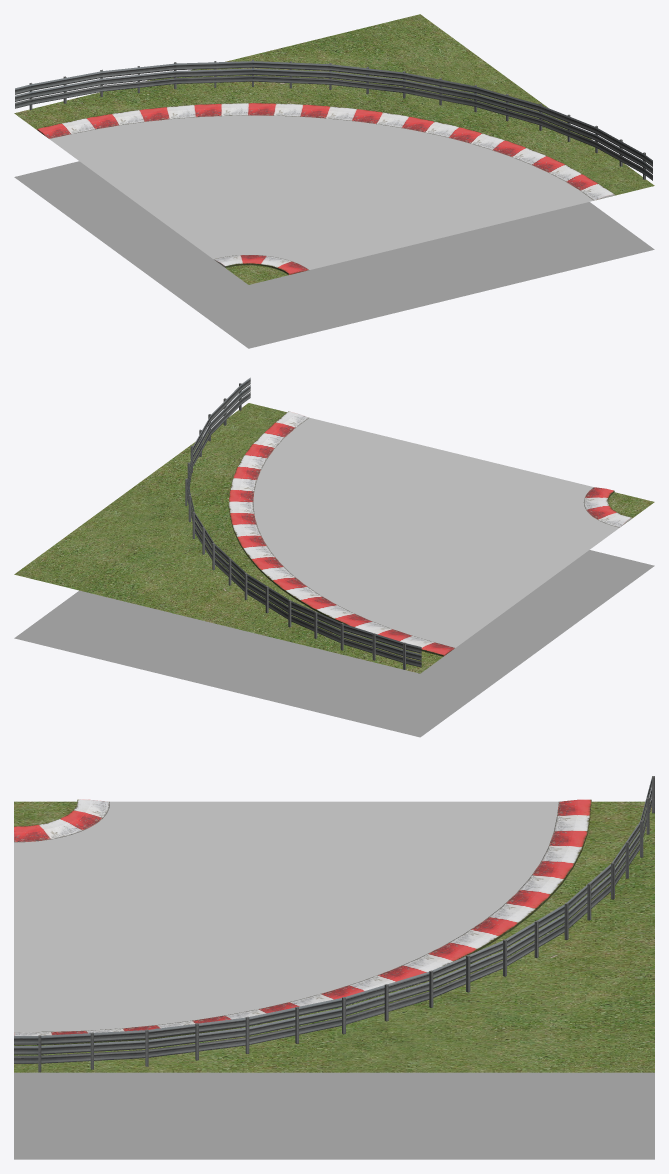
Rendered from Track_Curve_B_Mobile.fbx.
The picture shows the model from 3 angles, top to bottom: view 1: azimuth 30°, elevation 25°; view 2: azimuth 150°, elevation 25°; view 3: azimuth 270°, elevation 25°; orthographic projection. The views are drawn at different scales.
Parts seen in each view (by area): view 1: Road, Snap_Plane_Invisible, Grass, Rail, Curb_A, Curb_B; view 2: Road, Snap_Plane_Invisible, Grass, Curb_A, Rail, Curb_B; view 3: Road, Snap_Plane_Invisible, Grass, Rail, Curb_A, Curb_B.
Boxes of the visible parts, x1=… form: Road: x1=49, y1=115, x2=593, y2=269; Snap_Plane_Invisible: x1=14, y1=161, x2=654, y2=348; Grass: x1=14, y1=14, x2=654, y2=284; Rail: x1=15, y1=59, x2=652, y2=180; Curb_A: x1=37, y1=103, x2=614, y2=200; Curb_B: x1=214, y1=255, x2=309, y2=274; Road: x1=253, y1=417, x2=619, y2=647; Snap_Plane_Invisible: x1=14, y1=550, x2=654, y2=737; Grass: x1=14, y1=403, x2=654, y2=673; Curb_A: x1=228, y1=411, x2=454, y2=656; Rail: x1=185, y1=377, x2=421, y2=669; Curb_B: x1=583, y1=487, x2=631, y2=527; Road: x1=14, y1=801, x2=558, y2=1031; Snap_Plane_Invisible: x1=14, y1=1072, x2=654, y2=1159; Grass: x1=14, y1=801, x2=654, y2=1072; Rail: x1=14, y1=776, x2=654, y2=1072; Curb_A: x1=14, y1=799, x2=591, y2=1045; Curb_B: x1=14, y1=799, x2=109, y2=842.
Bounding box in the file's own units: 20 × 4.24 × 20.
